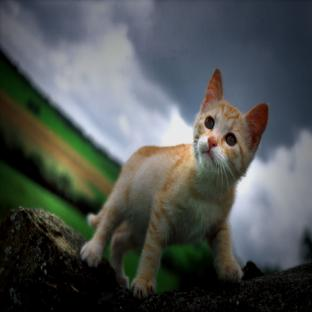Animal: (80, 69, 268, 299)
